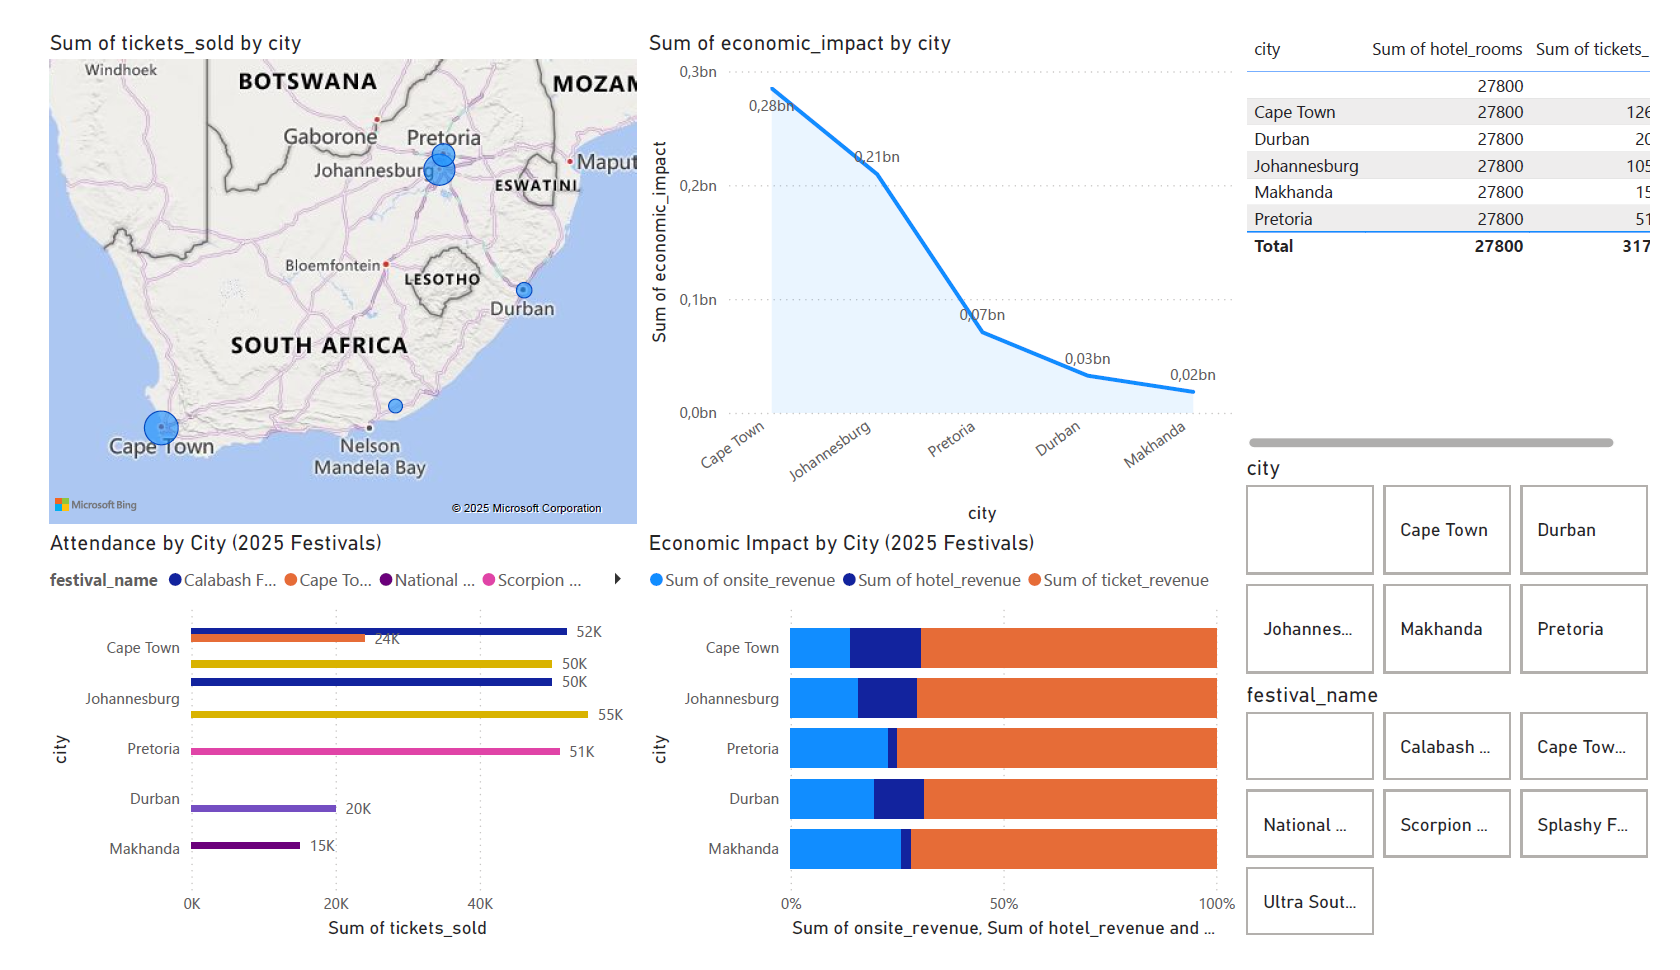

What the dashboard file says about the page in this screenshot:
{"tool":"powerbi","page":{"name":"Page 1","canvas":[1280,720],"ordinal":0},"visuals":[{"type":"map","fields":{"Category":["festival_ticket_sales.city"],"Size":["Sum(festival_ticket_sales.tickets_sold)"]},"box":[9.6,0,472,393.8],"z":0},{"type":"clusteredBarChart","title":"Attendance by City (2025 Festivals)","fields":{"Series":["festival_ticket_sales.festival_name"],"Category":["festival_ticket_sales.city"],"Y":["Sum(festival_ticket_sales.tickets_sold)"]},"box":[9.6,393.8,472,326.6],"z":1000},{"type":"hundredPercentStackedBarChart","title":"Economic Impact by City (2025 Festivals)","fields":{"Category":["festival_ticket_sales.city"],"Y":["Sum(festival_ticket_sales.onsite_revenue)","Sum(festival_ticket_sales.hotel_revenue)","Sum(festival_ticket_sales.ticket_revenue)"]},"box":[481.6,393.8,472,326.6],"z":2000},{"type":"lineChart","fields":{"Category":["festival_ticket_sales.city"],"Y":["Sum(festival_ticket_sales.economic_impact)"]},"box":[481.6,0,472,393.8],"z":3000},{"type":"tableEx","fields":{"Values":["festival_ticket_sales.city","Sum(hotel_data.hotel_rooms)","Sum(festival_ticket_sales.tickets_sold)"]},"box":[953.5,0,326.7,334.9],"z":3001},{"type":"advancedSlicerVisual","fields":{"Values":["festival_ticket_sales.festival_name"]},"box":[953.5,514,326.7,205.8],"z":3002},{"type":"advancedSlicerVisual","fields":{"Values":["hotel_data.city"]},"box":[953.5,334.9,326.7,179.1],"z":3003}]}

Visuals, with their boxes in screenshot pixels (x1, y1, x2, y2), scaled from the page's 1280x720 canvas onto the 1680x970 screenshot:
map - festival_ticket_sales.city x Sum(festival_ticket_sales.tickets_sold): [13,0,632,531]
"Attendance by City (2025 Festivals)" clusteredBarChart: [13,531,632,969]
"Economic Impact by City (2025 Festivals)" hundredPercentStackedBarChart: [632,531,1252,969]
lineChart - festival_ticket_sales.city x Sum(festival_ticket_sales.economic_impact): [632,0,1252,531]
tableEx - festival_ticket_sales.city x Sum(hotel_data.hotel_rooms): [1251,0,1679,451]
advancedSlicerVisual - festival_ticket_sales.festival_name: [1251,692,1679,969]
advancedSlicerVisual - hotel_data.city: [1251,451,1679,692]
